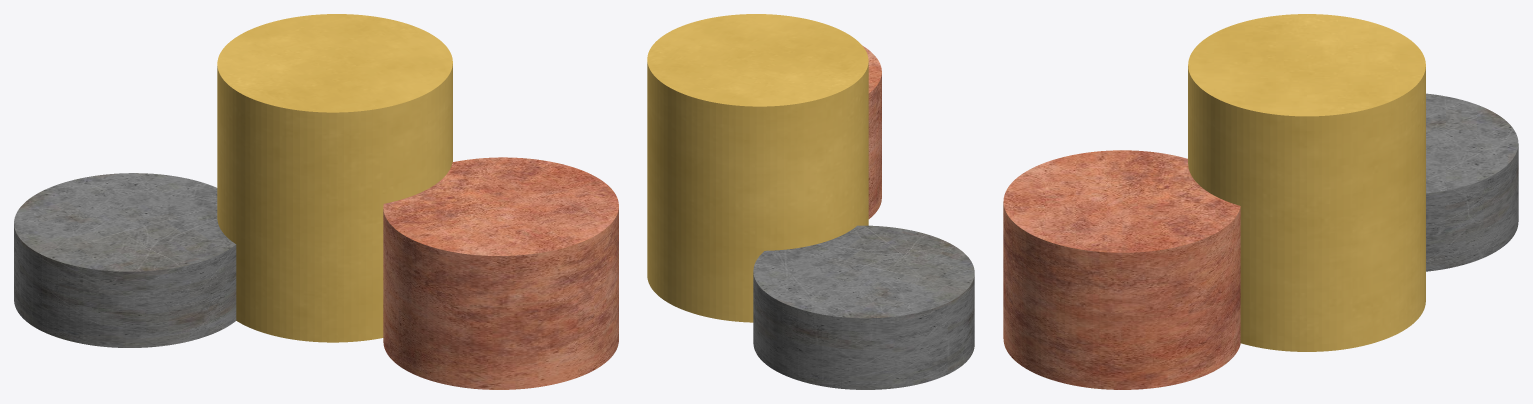
File: podio.glb
3 views of the same model, side by side, from view 1: azimuth 30°, elevation 25°; view 2: azimuth 150°, elevation 25°; view 3: azimuth 270°, elevation 25° (orthographic). The views are drawn at different scales.
Visible parts, largest first — view 1: Oro, Bronce, Plata; view 2: Oro, Plata, Bronce; view 3: Oro, Bronce, Plata.
Boxes of the visible parts, left/top/right/bottom form: Oro: left=217, top=14, right=452, bottom=342; Bronce: left=383, top=157, right=618, bottom=389; Plata: left=14, top=173, right=236, bottom=347; Oro: left=647, top=14, right=868, bottom=322; Plata: left=753, top=225, right=974, bottom=389; Bronce: left=862, top=45, right=881, bottom=218; Oro: left=1188, top=14, right=1425, bottom=351; Bronce: left=1003, top=150, right=1240, bottom=389; Plata: left=1426, top=93, right=1518, bottom=271.
Bounding box in the file's own units: 4.27 × 2.14 × 4.24.
Materials: 3 (3 with a texture image).
